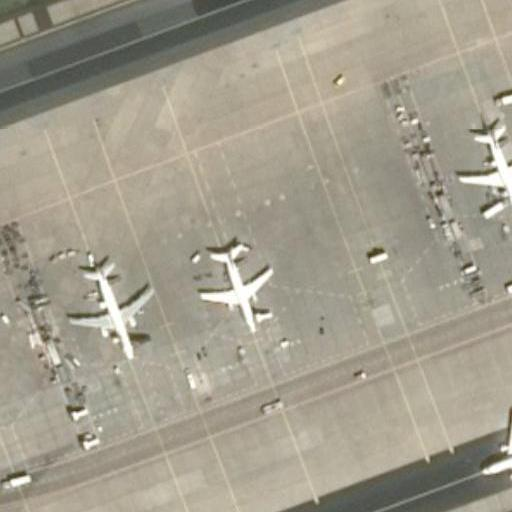Aircraft: (64, 251, 158, 355), (198, 241, 276, 342), (459, 120, 512, 227), (468, 404, 512, 506)
